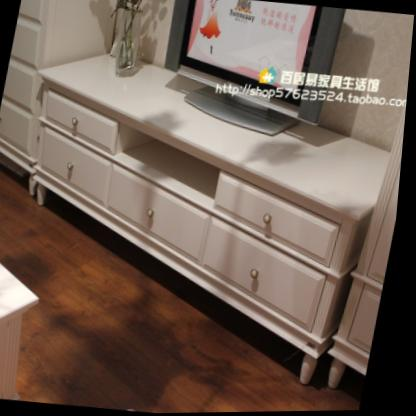TV stand: (0, 0, 416, 394)
